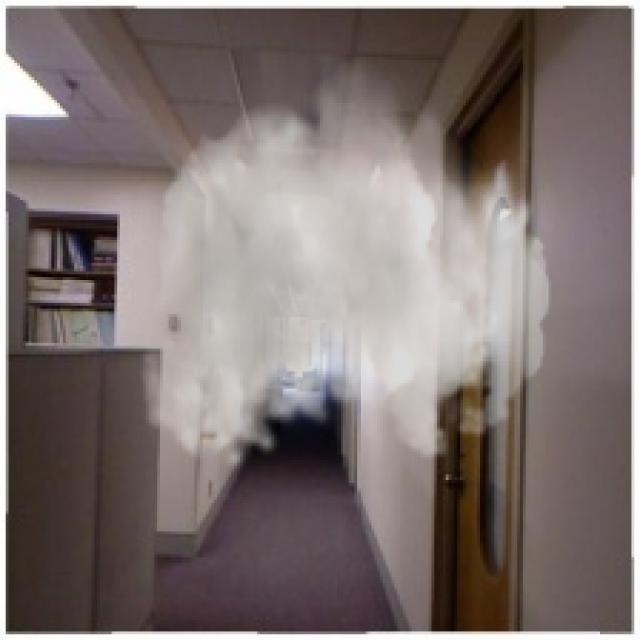Smoke: (139, 51, 552, 472)
